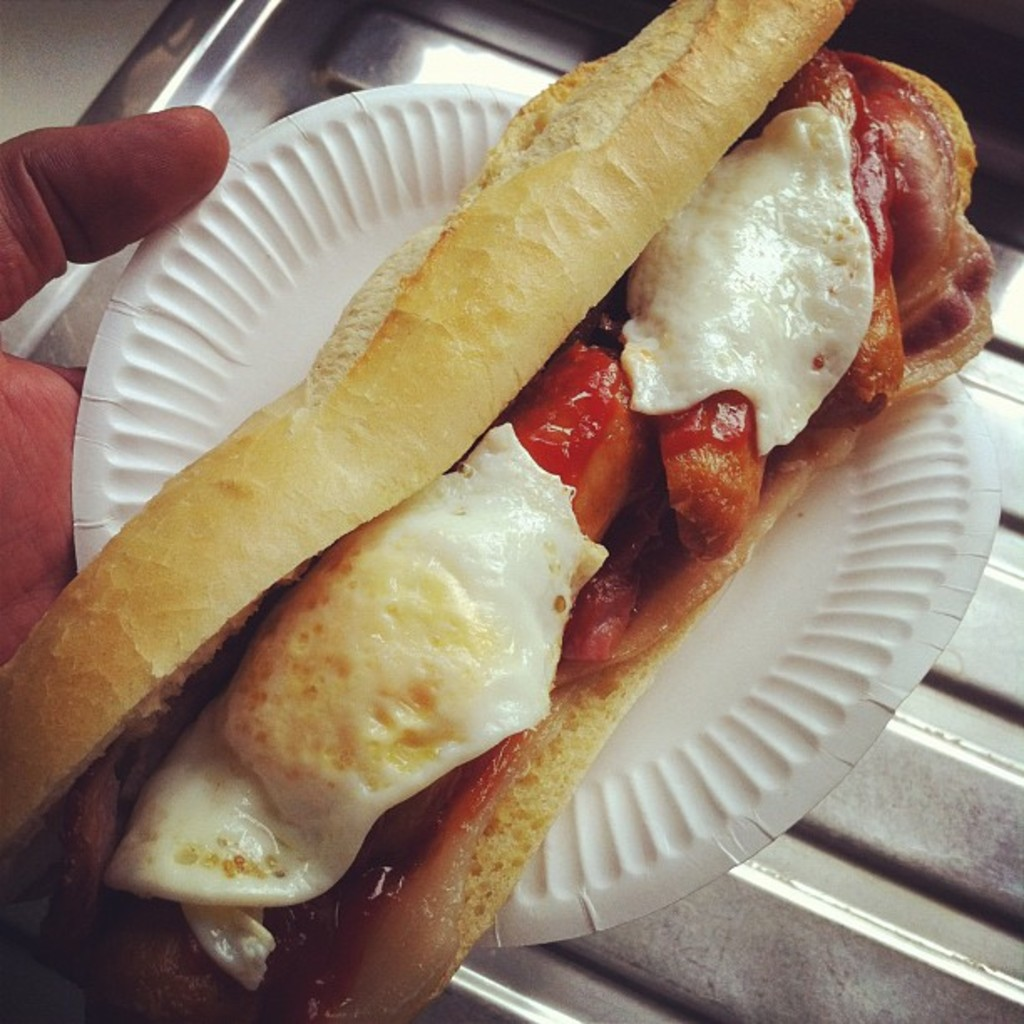hot_dog: (0, 0, 1004, 1022)
